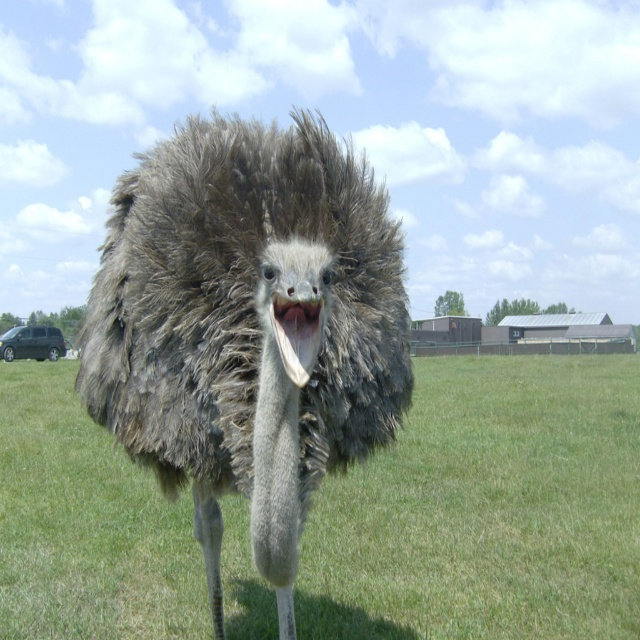Ostrich: (74, 103, 415, 640)
